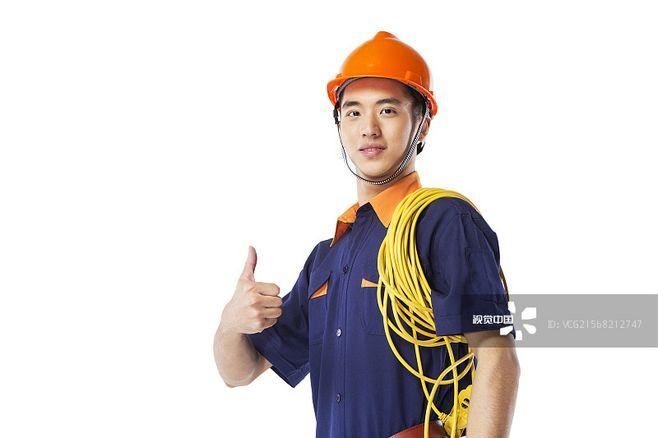helmet: (329, 31, 440, 118)
